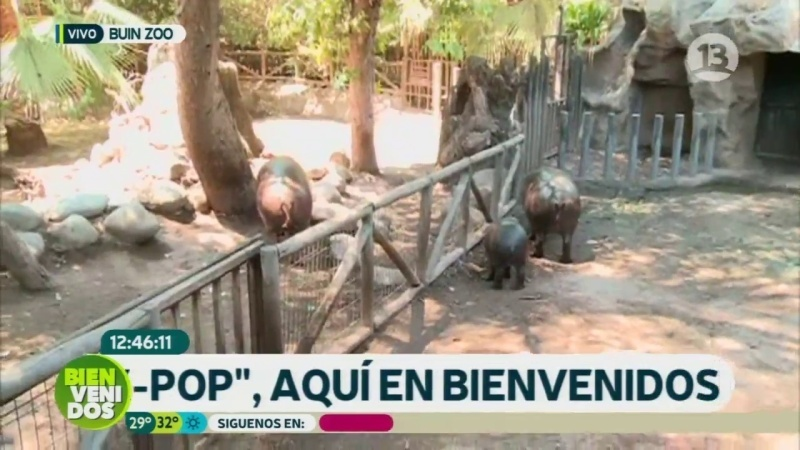hipopotamo: (240, 141, 332, 250), (517, 149, 597, 274), (473, 206, 539, 298)
